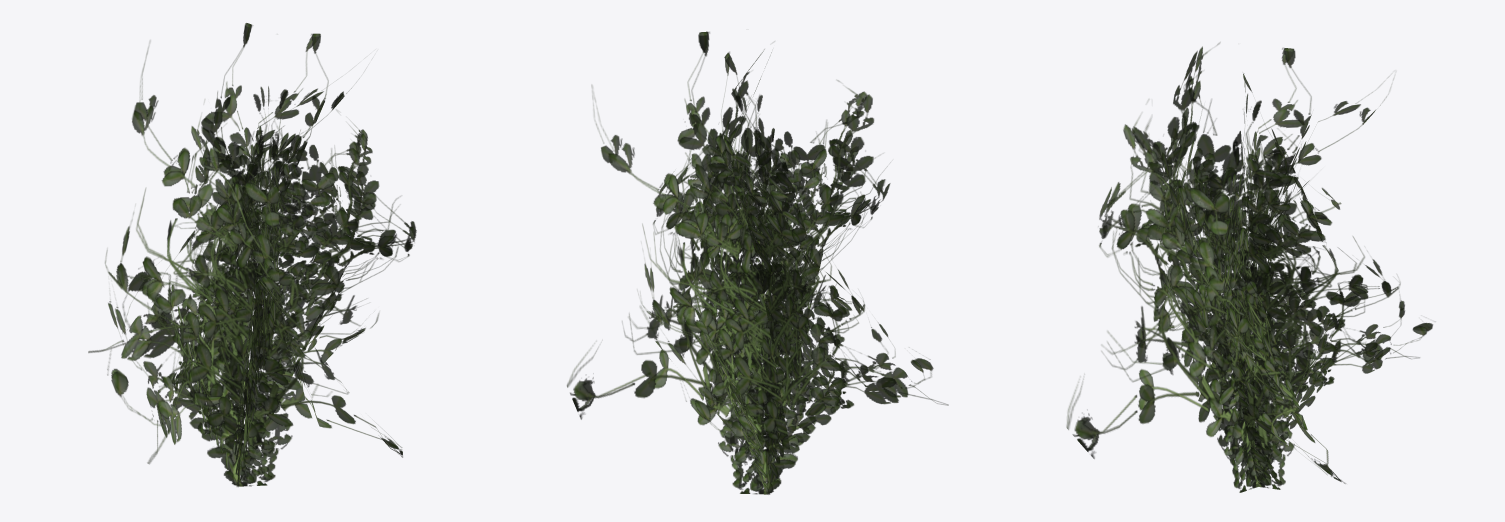
The model's file is Simple_bush.glb.
The picture shows the model from 3 angles, left to right: view 1: azimuth 30°, elevation 25°; view 2: azimuth 150°, elevation 25°; view 3: azimuth 270°, elevation 25°; orthographic projection.
Visible parts, largest first — view 1: unnamed; view 2: unnamed; view 3: unnamed.
Part boxes in pixels (x1=…): unnamed: x1=88, y1=23, x2=416, y2=486; unnamed: x1=567, y1=31, x2=948, y2=494; unnamed: x1=1066, y1=42, x2=1432, y2=492.
Size of the model in its own units: 0.5875 by 0.6152 by 0.589.
1 material, 1 textured.
